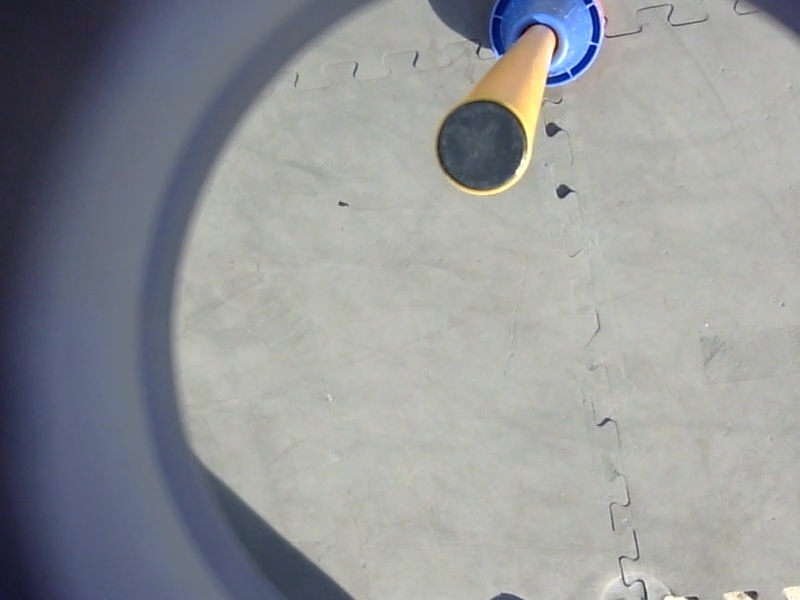tip: (427, 93, 538, 203)
